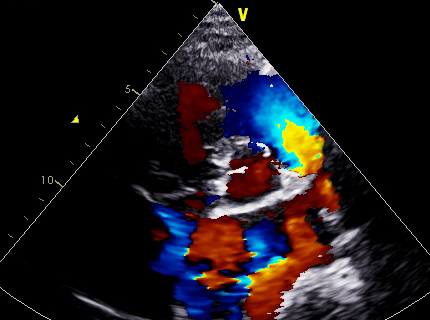TR: (140, 162, 247, 295)
